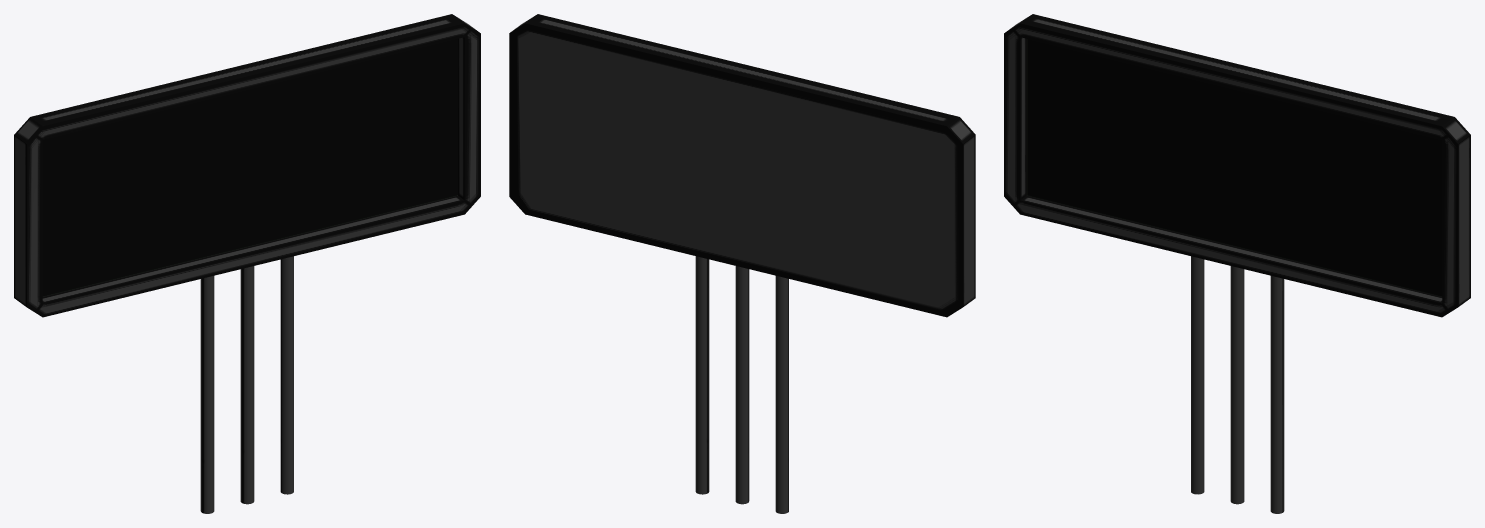
The model's file is Scoreboard.fbx.
3 views of the same model, side by side, from view 1: azimuth 30°, elevation 25°; view 2: azimuth 150°, elevation 25°; view 3: azimuth 330°, elevation 25° (orthographic).
Parts seen in each view (by area): view 1: pCube1, pasted__pCylinder1 (×2), pCylinder1; view 2: pCube1, pasted__pCylinder1 (×2), pCylinder1; view 3: pCube1, pasted__pCylinder1 (×2), pCylinder1.
Part boxes in pixels (x1=…): pCube1: x1=14, y1=14, x2=480, y2=317; pasted__pCylinder1 (×2): x1=200, y1=256, x2=293, y2=513; pCylinder1: x1=240, y1=266, x2=254, y2=504; pCube1: x1=509, y1=14, x2=975, y2=317; pasted__pCylinder1 (×2): x1=695, y1=256, x2=788, y2=513; pCylinder1: x1=735, y1=266, x2=749, y2=504; pCube1: x1=1004, y1=14, x2=1470, y2=317; pasted__pCylinder1 (×2): x1=1191, y1=256, x2=1284, y2=513; pCylinder1: x1=1230, y1=266, x2=1244, y2=504.
Size of the model in its own units: 34.13 by 30.98 by 1.66.
